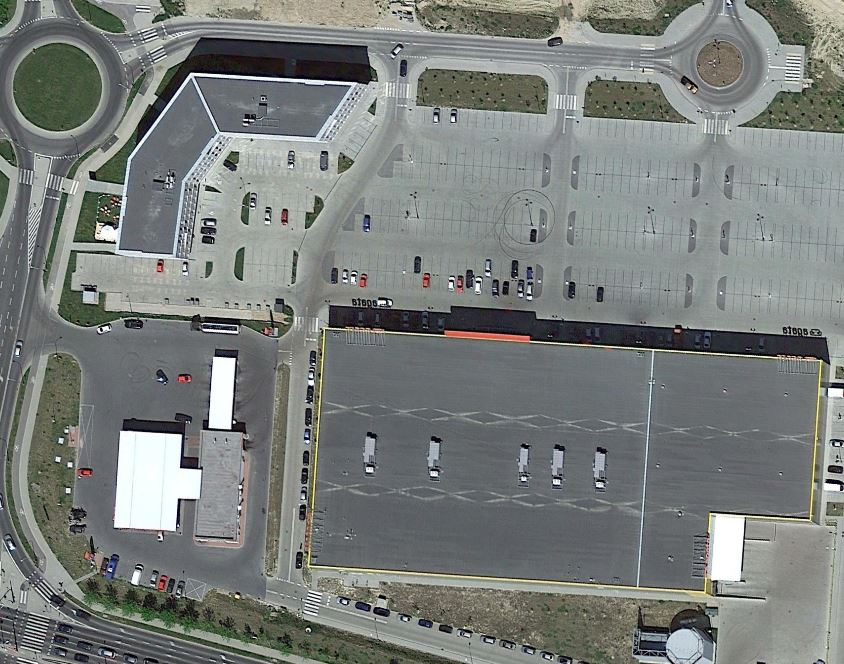block of flats: (101, 49, 388, 274)
shopping_center: (298, 311, 832, 626)
